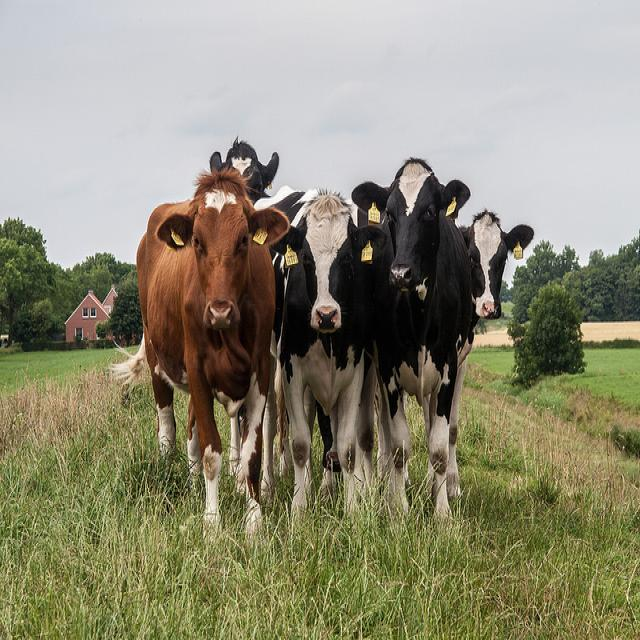cow: (115, 173, 287, 540), (348, 157, 473, 520), (269, 182, 382, 530), (209, 137, 288, 492), (459, 209, 535, 320)
